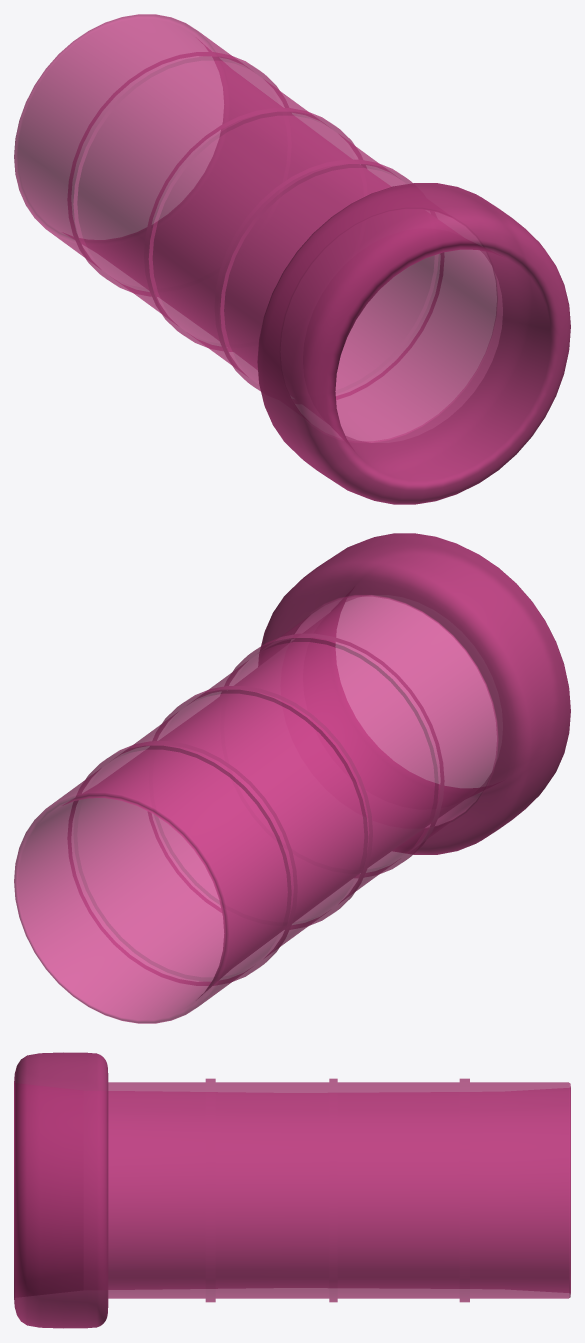
Rendered from TunnelPink.fbx.
3 renders of one model, top to bottom at view 1: azimuth 30°, elevation 25°; view 2: azimuth 150°, elevation 25°; view 3: azimuth 270°, elevation 25°, orthographic. The views are drawn at different scales.
Visible parts, largest first — view 1: Tunnel; view 2: Tunnel; view 3: Tunnel.
Boxes of the visible parts, left/top/right/bottom form: Tunnel: left=14, top=14, right=570, bottom=504; Tunnel: left=14, top=533, right=570, bottom=1023; Tunnel: left=14, top=1052, right=570, bottom=1328.
Size of the model in its own units: 3.13 by 3.13 by 6.31.
